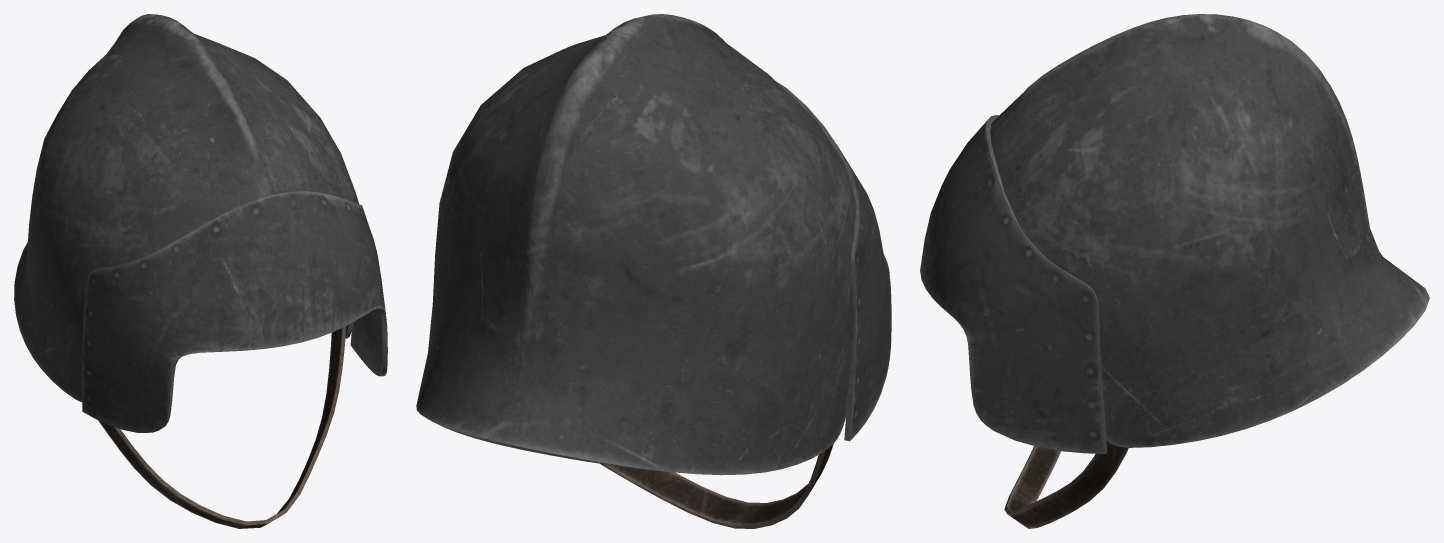
Rendered from sk_uruk_hai_helmet_skir_a4.fbx.
The picture shows the model from 3 angles, left to right: view 1: azimuth 30°, elevation 25°; view 2: azimuth 150°, elevation 25°; view 3: azimuth 270°, elevation 25°; orthographic projection. The views are drawn at different scales.
Parts seen in each view (by area): view 1: sk_uruk_hai_helmet_skir_a4.1, sk_uruk_hai_helmet_skir_a4.0; view 2: sk_uruk_hai_helmet_skir_a4.1, sk_uruk_hai_helmet_skir_a4.0; view 3: sk_uruk_hai_helmet_skir_a4.1, sk_uruk_hai_helmet_skir_a4.0.
Boxes of the visible parts, bbox=[...] form: sk_uruk_hai_helmet_skir_a4.1: bbox=[14, 14, 387, 432]; sk_uruk_hai_helmet_skir_a4.0: bbox=[98, 326, 345, 528]; sk_uruk_hai_helmet_skir_a4.1: bbox=[416, 14, 891, 475]; sk_uruk_hai_helmet_skir_a4.0: bbox=[600, 443, 833, 528]; sk_uruk_hai_helmet_skir_a4.1: bbox=[920, 14, 1429, 453]; sk_uruk_hai_helmet_skir_a4.0: bbox=[1004, 440, 1128, 528].
Bounding box in the file's own units: 0.2072 × 0.2882 × 0.3151.
2 materials, 2 textured.
